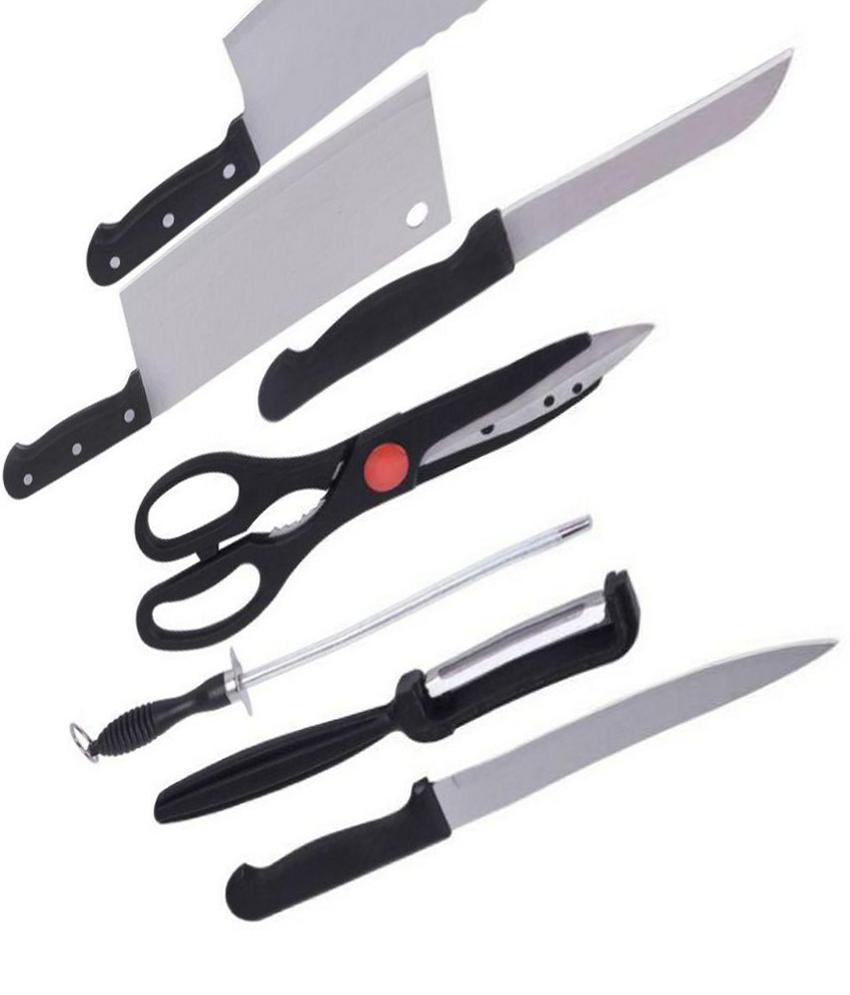knife: (260, 48, 790, 421), (227, 643, 839, 921)
